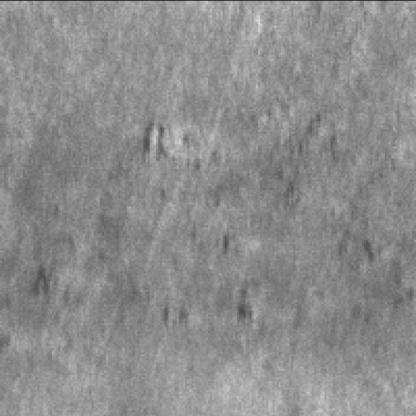rolled-in_scale: (138, 112, 348, 235)
